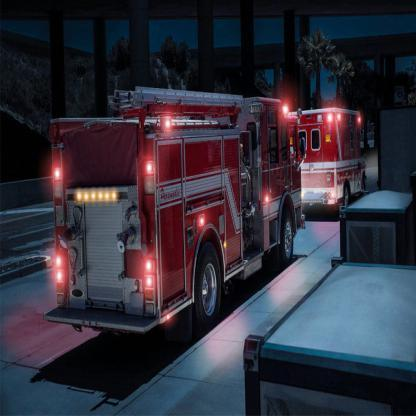fire-truck: (39, 57, 373, 389)
